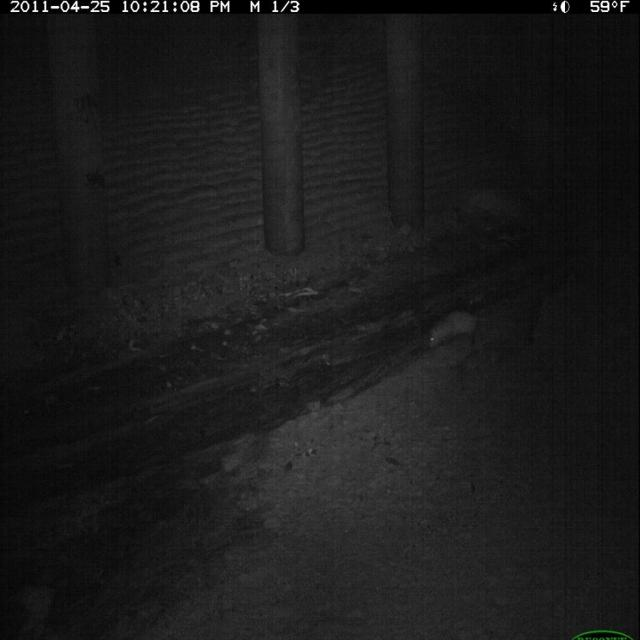opossum: (424, 301, 498, 357)
